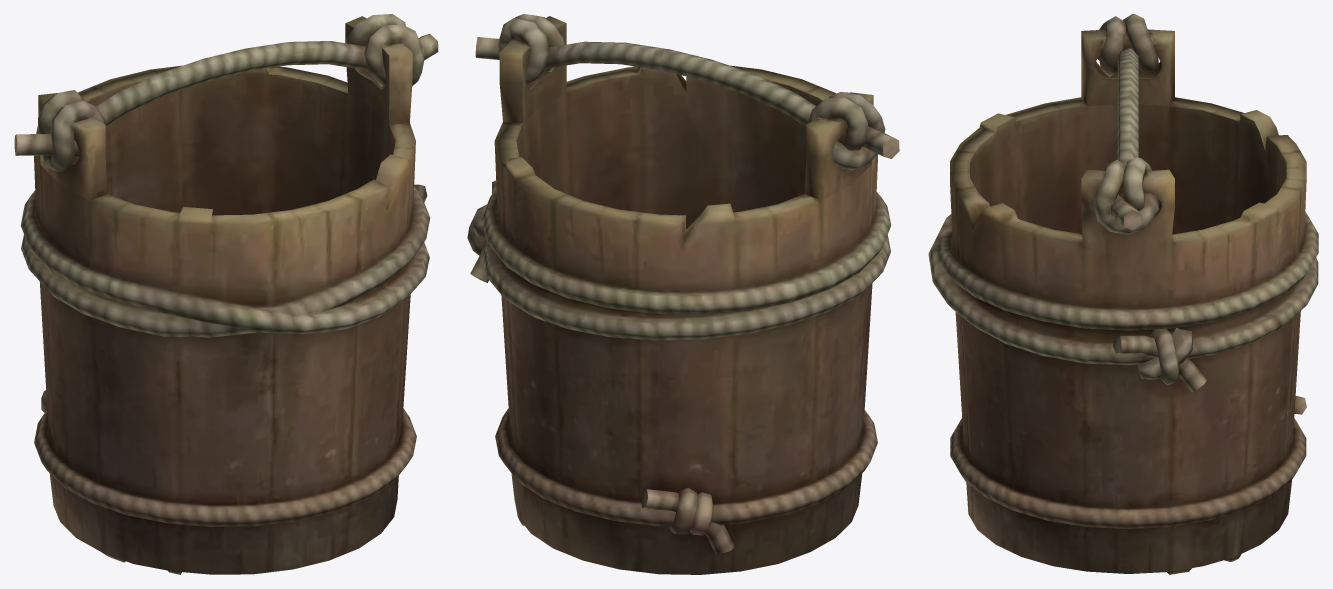
3 renders of one model, left to right at view 1: azimuth 30°, elevation 25°; view 2: azimuth 150°, elevation 25°; view 3: azimuth 270°, elevation 25°, orthographic. The views are drawn at different scales.
Visible parts, largest first — view 1: SM_Bucket_2H_01_LOD0; view 2: SM_Bucket_2H_01_LOD0; view 3: SM_Bucket_2H_01_LOD0.
Boxes of the visible parts, bbox=[...] form: SM_Bucket_2H_01_LOD0: bbox=[14, 14, 438, 574]; SM_Bucket_2H_01_LOD0: bbox=[467, 14, 899, 574]; SM_Bucket_2H_01_LOD0: bbox=[928, 14, 1318, 574].
Bounding box in the file's own units: 0.4663 × 0.4791 × 0.3995.
Materials: 1 (1 with a texture image).
